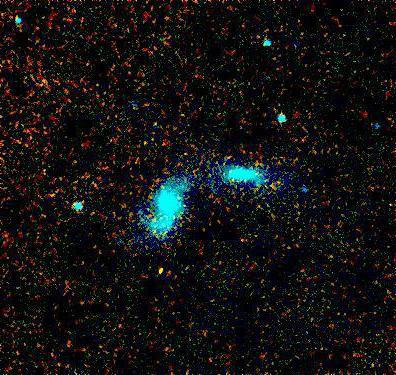star: (156, 255, 186, 285)
